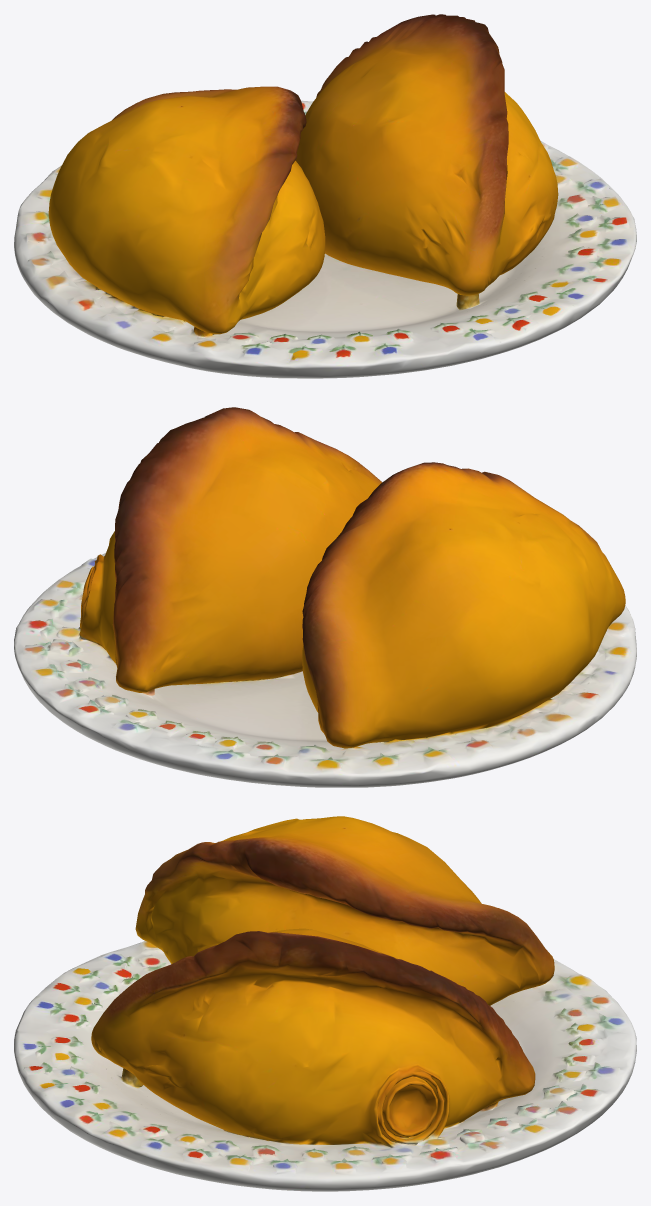
File: SaltenaModel.glb
3 renders of one model, top to bottom at view 1: azimuth 30°, elevation 25°; view 2: azimuth 150°, elevation 25°; view 3: azimuth 270°, elevation 25°, orthographic.
Visible parts, largest first — view 1: tripo_node_45f829bc-d535-459d-adfa-7aa9332b9cda; view 2: tripo_node_45f829bc-d535-459d-adfa-7aa9332b9cda; view 3: tripo_node_45f829bc-d535-459d-adfa-7aa9332b9cda.
Boxes of the visible parts, x1,y1,x2,y2 form: tripo_node_45f829bc-d535-459d-adfa-7aa9332b9cda: (14,14,636,378); tripo_node_45f829bc-d535-459d-adfa-7aa9332b9cda: (14,407,636,787); tripo_node_45f829bc-d535-459d-adfa-7aa9332b9cda: (14,816,636,1191).
Size of the model in its own units: 0.979 by 0.3709 by 0.9797.
Materials: 1 (1 with a texture image).
